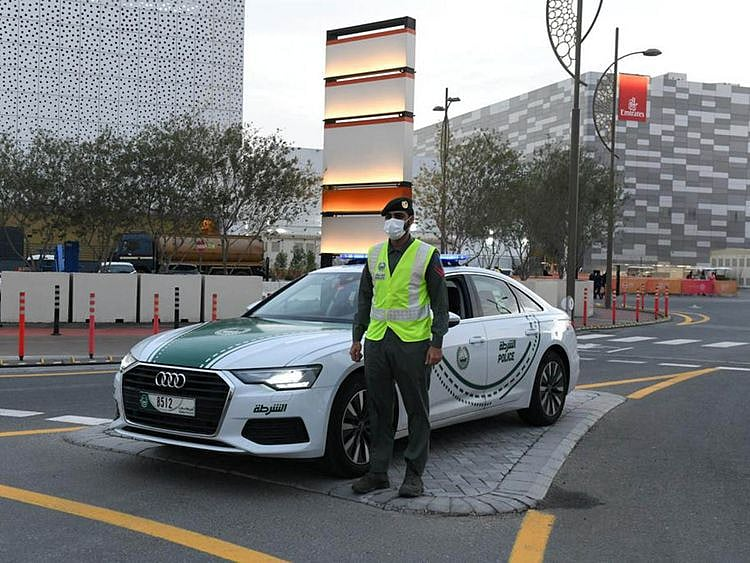Car: (104, 253, 595, 458)
Person: (340, 196, 438, 506)
Tree: (93, 108, 210, 275), (436, 133, 539, 280)
